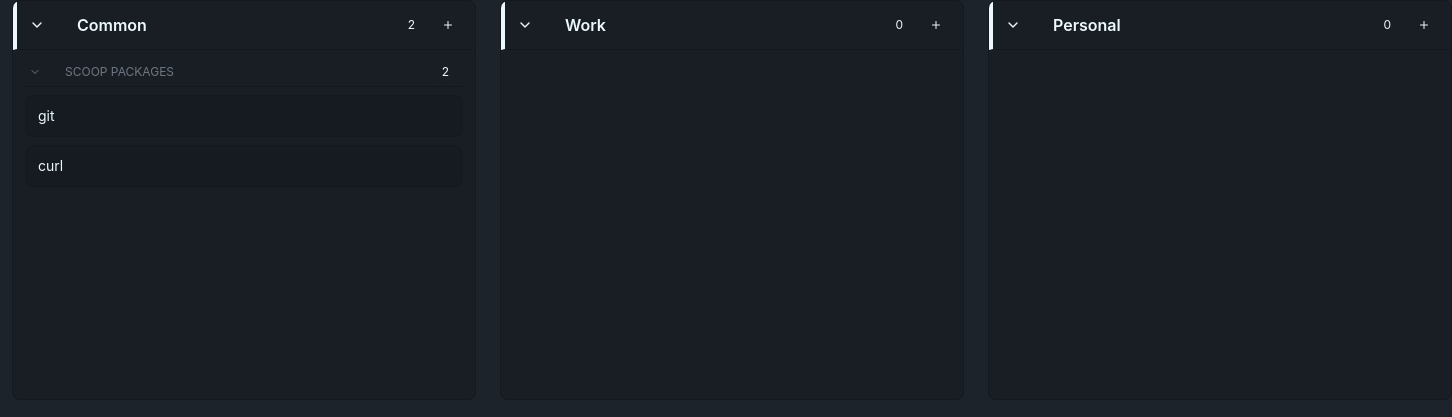
Test case: JsonEditor › shows context menu on right-click of an item
Right-click the text "git" at (46, 116), box [38, 107, 55, 124]
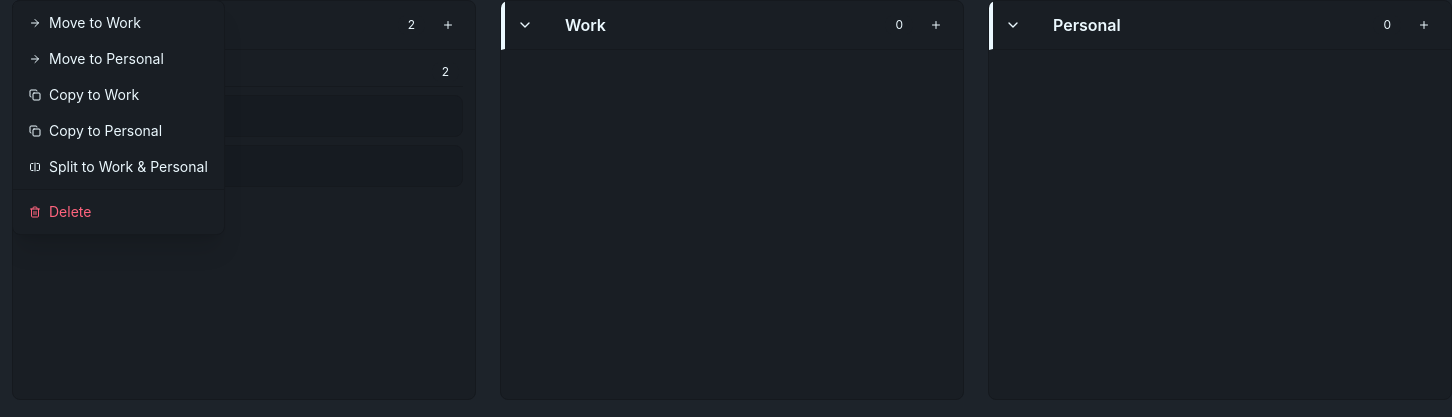
Expected: the element with test id "context-menu" is shown, [12, 0, 225, 235]
Expected: the button "Move to Work" is shown, [13, 5, 224, 41]
Expected: the button "Move to Personal" is shown, [13, 41, 224, 77]
